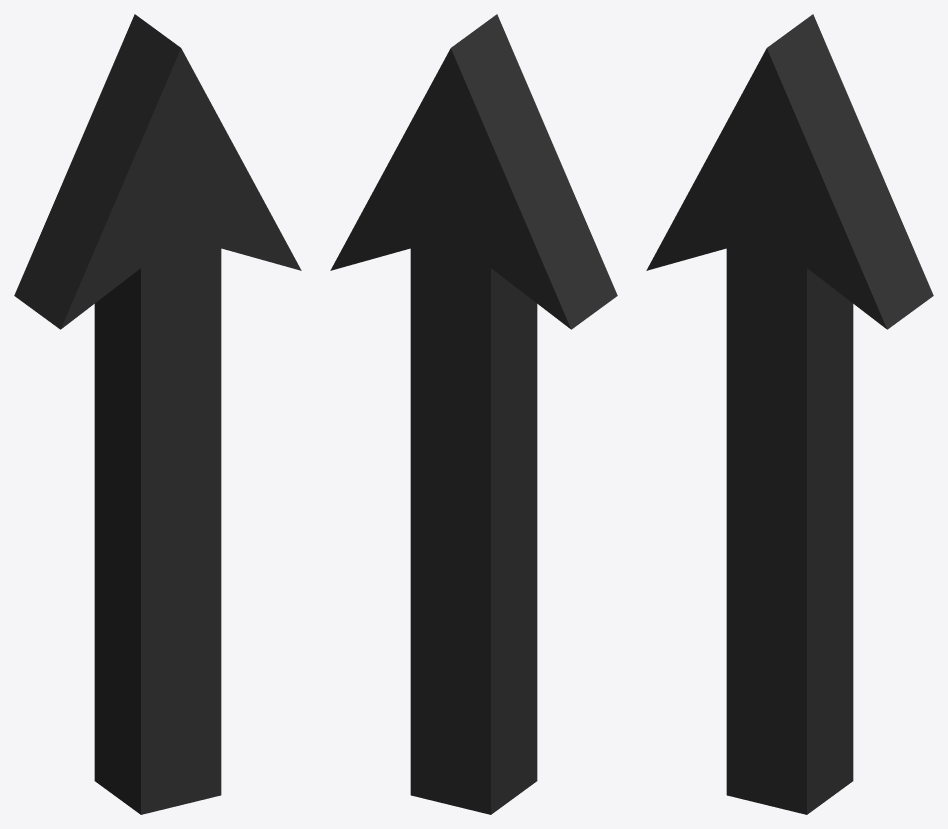
The model's file is jauge_aiguille.glb.
3 renders of one model, left to right at view 1: azimuth 30°, elevation 25°; view 2: azimuth 150°, elevation 25°; view 3: azimuth 330°, elevation 25°, orthographic.
Visible parts, largest first — view 1: generated(Clone); view 2: generated(Clone); view 3: generated(Clone).
Part boxes in pixels (bbox=[...]): generated(Clone): bbox=[14, 14, 301, 814]; generated(Clone): bbox=[330, 14, 617, 814]; generated(Clone): bbox=[646, 14, 933, 814].
Bounding box in the file's own units: 3 × 9 × 1.
Materials: 1 (1 with a texture image).
